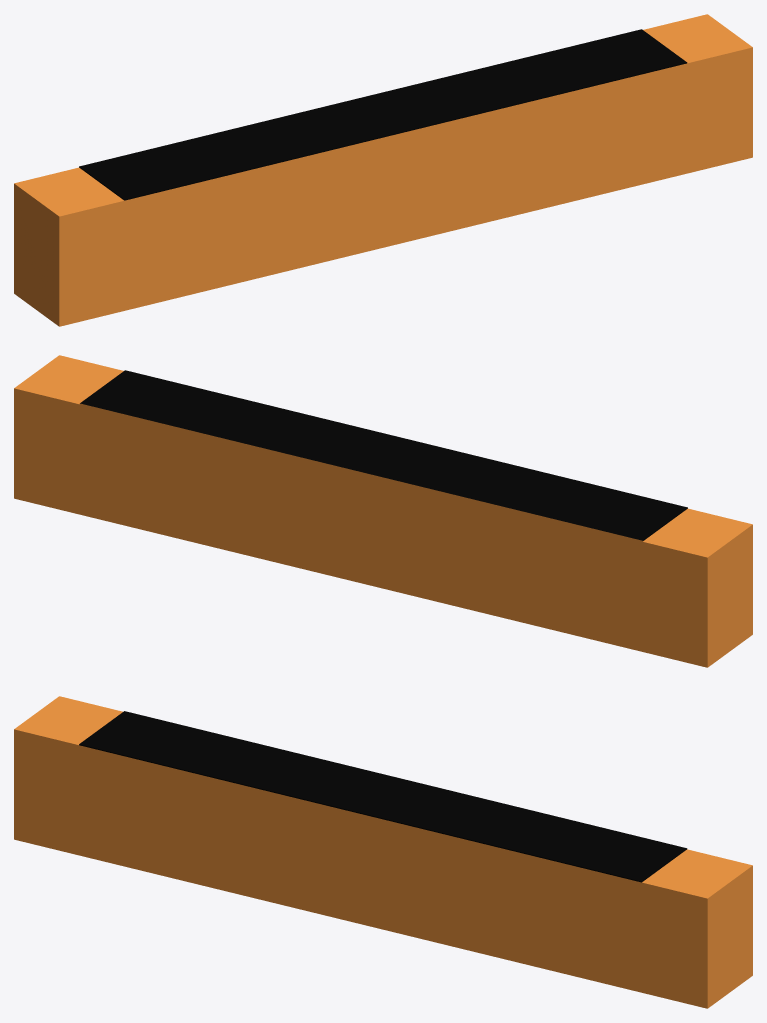
The model's file is Cinta.fbx.
3 views of the same model, one above another, from view 1: azimuth 30°, elevation 25°; view 2: azimuth 150°, elevation 25°; view 3: azimuth 330°, elevation 25° (orthographic).
Parts seen in each view (by area): view 1: Cube; view 2: Cube; view 3: Cube.
Boxes of the visible parts, box(x1,y1,x2,y2) form: Cube: box(14, 14, 752, 326); Cube: box(14, 355, 752, 667); Cube: box(14, 696, 752, 1008).
Bounding box in the file's own units: 5.21 × 0.799 × 0.5907.
